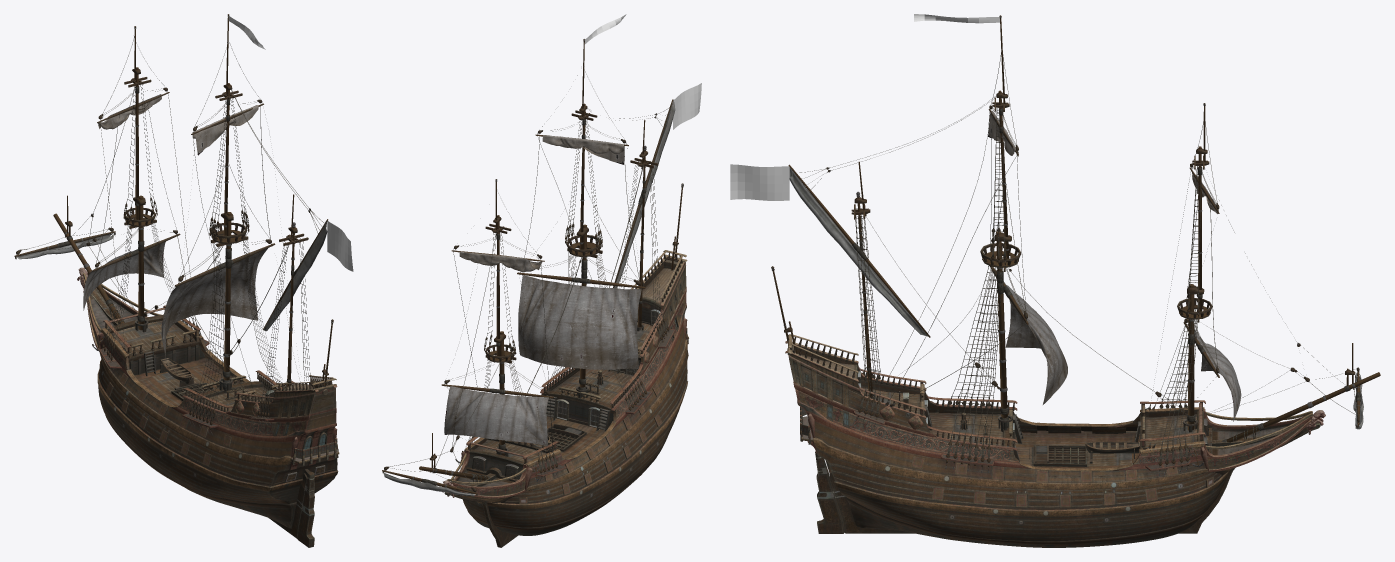
File: dutch_ship_large_02.gltf
3 renders of one model, left to right at view 1: azimuth 30°, elevation 25°; view 2: azimuth 150°, elevation 25°; view 3: azimuth 270°, elevation 25°, orthographic. The views are drawn at different scales.
Parts seen in each view (by area): view 1: dutch_ship_large_02_hull, dutch_ship_large_02_rigging, Sail_2, Sail_0, Sail_3, Flag, Sail_1; view 2: dutch_ship_large_02_hull, dutch_ship_large_02_rigging, Sail_2, Sail_0, Sail_3, Sail_1, Flag; view 3: dutch_ship_large_02_hull, dutch_ship_large_02_rigging, Sail_2, Flag, Sail_0.
Boxes of the visible parts, <box> form: dutch_ship_large_02_hull: <box>77,267,339,547</box>; dutch_ship_large_02_rigging: <box>14,14,333,434</box>; Sail_2: <box>161,248,267,358</box>; Sail_0: <box>83,241,165,310</box>; Sail_3: <box>192,105,258,155</box>; Flag: <box>327,221,353,271</box>; Sail_1: <box>98,94,161,129</box>; dutch_ship_large_02_hull: <box>442,250,688,547</box>; dutch_ship_large_02_rigging: <box>382,39,683,496</box>; Sail_2: <box>518,275,641,369</box>; Sail_0: <box>444,386,548,446</box>; Sail_3: <box>542,135,624,164</box>; Sail_1: <box>459,251,542,272</box>; Flag: <box>673,83,701,129</box>; dutch_ship_large_02_hull: <box>785,334,1325,547</box>; dutch_ship_large_02_rigging: <box>771,15,1380,476</box>; Sail_2: <box>994,268,1067,404</box>; Flag: <box>730,164,789,200</box>; Sail_0: <box>1187,324,1241,421</box>.
Bounding box in the file's own units: 8.54 × 32.08 × 36.55.
4 materials, 3 textured.
